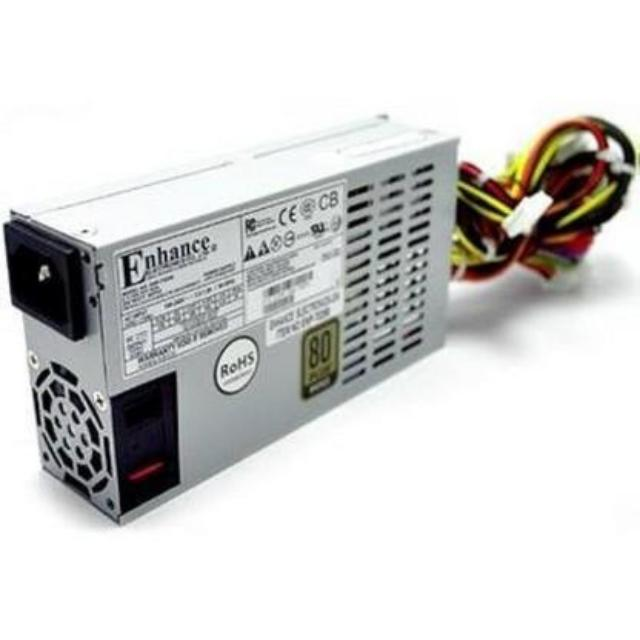PSU: (0, 95, 477, 540)
